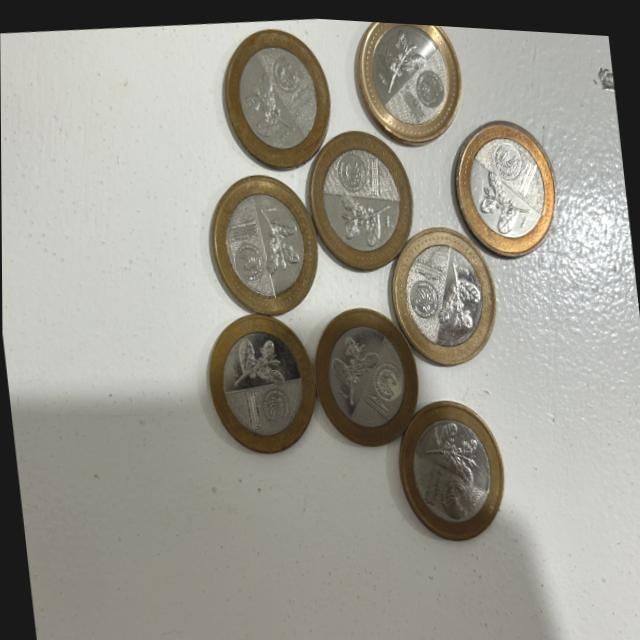20_New_Back: (328, 177, 400, 257)
